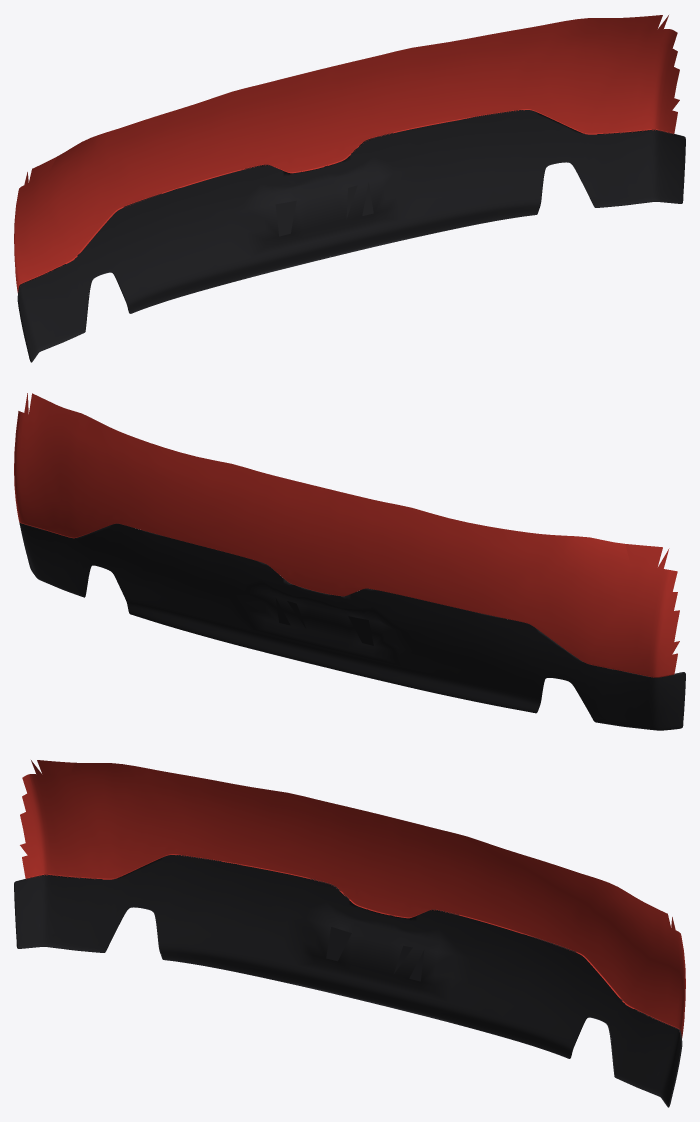
File: vela_rear_wide.glb
3 renders of one model, top to bottom at view 1: azimuth 30°, elevation 25°; view 2: azimuth 150°, elevation 25°; view 3: azimuth 330°, elevation 25°, orthographic.
Visible parts, largest first — view 1: bumper_rear.002, bumper_rear_lower.001; view 2: bumper_rear.002, bumper_rear_lower.001; view 3: bumper_rear.002, bumper_rear_lower.001.
Part boxes in pixels (x1=…): bumper_rear.002: x1=14, y1=15, x2=679, y2=292; bumper_rear_lower.001: x1=17, y1=110, x2=685, y2=362; bumper_rear.002: x1=14, y1=393, x2=679, y2=677; bumper_rear_lower.001: x1=19, y1=522, x2=685, y2=730; bumper_rear.002: x1=20, y1=760, x2=685, y2=1037; bumper_rear_lower.001: x1=14, y1=855, x2=682, y2=1107.
Bounding box in the file's own units: 1.95 × 0.5279 × 0.2078.
